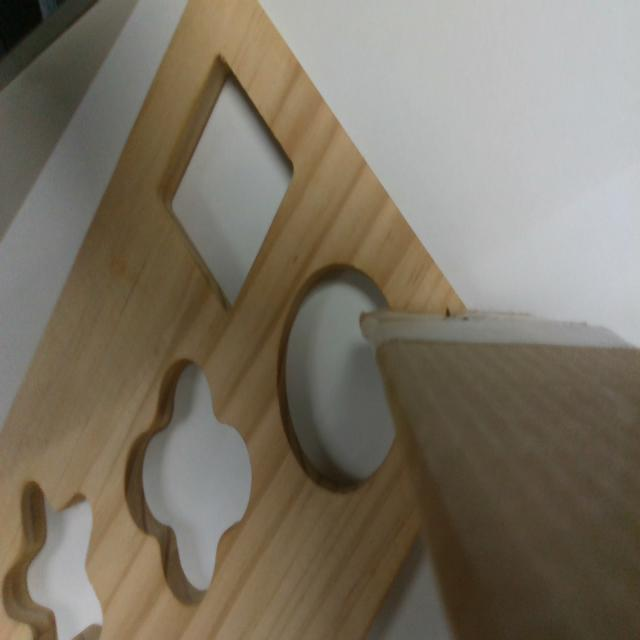circle: (277, 261, 394, 489)
flower: (122, 361, 251, 608)
square: (158, 53, 296, 313)
star: (3, 481, 105, 638)
